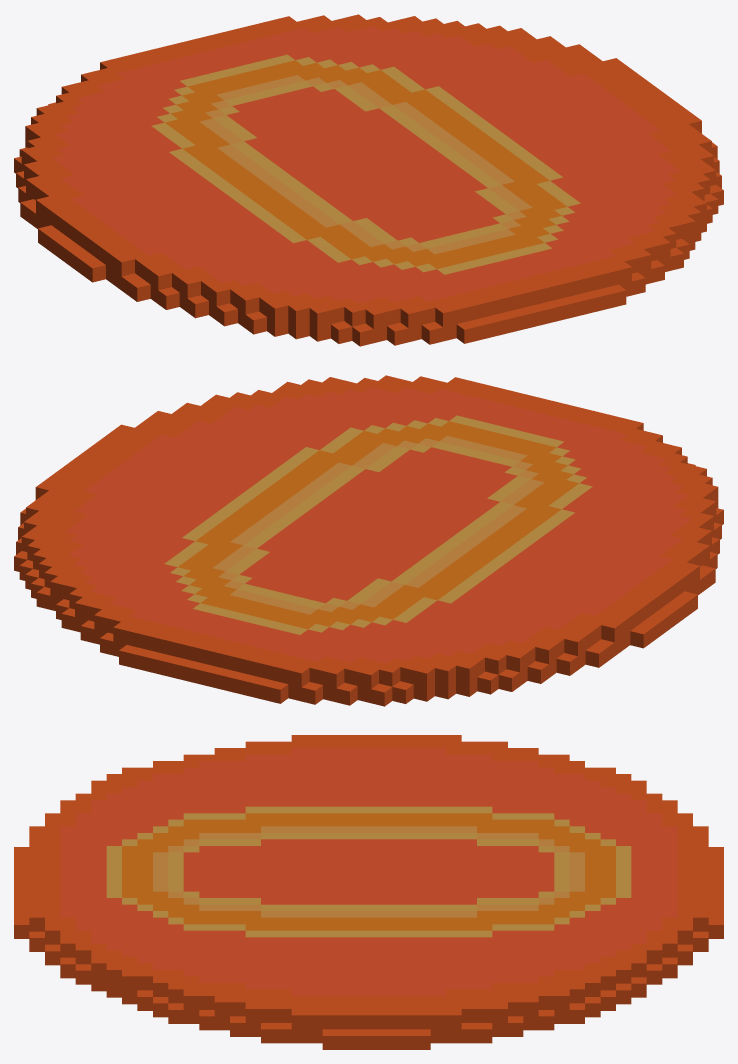
The model's file is button weigher(0).obj.
3 views of the same model, one above another, from view 1: azimuth 30°, elevation 25°; view 2: azimuth 150°, elevation 25°; view 3: azimuth 270°, elevation 25° (orthographic).
Size of the model in its own units: 4.5 by 0.2 by 4.6.
Materials: 1 (1 with a texture image).
